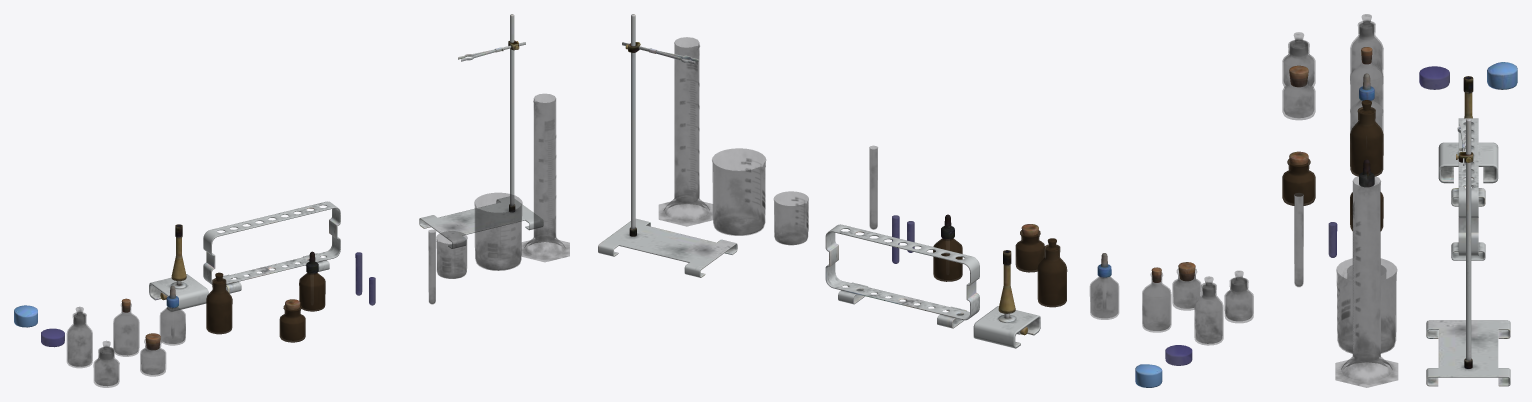
Rendered from set.glb.
The picture shows the model from 3 angles, left to right: view 1: azimuth 30°, elevation 25°; view 2: azimuth 150°, elevation 25°; view 3: azimuth 270°, elevation 25°; orthographic projection. The views are drawn at different scales.
Visible parts, largest first — view 1: chemistry_set_beaker_large, chemistry_set_clamp_stand, chemistry_set_beaker_med, chemistry_set_test_tube_stand_a, chemistry_set_bunsen_burner, chemistry_set_beaker_small, chemistry_set_bottle_dark_c, chemistry_set_bottle_clear_c, chemistry_set_bottle_clear_d, chemistry_set_bottle_dark_e, chemistry_set_bottle_clear_e, chemistry_set_bottle_clear_a (+4 smaller); view 2: chemistry_set_beaker_large, chemistry_set_clamp_stand, chemistry_set_beaker_med, chemistry_set_test_tube_stand_a, chemistry_set_bunsen_burner, chemistry_set_beaker_small, chemistry_set_bottle_dark_c, chemistry_set_bottle_clear_c, chemistry_set_bottle_clear_d, chemistry_set_bottle_clear_e, chemistry_set_bottle_clear_a, chemistry_set_bottle_dark_e (+4 smaller); view 3: chemistry_set_beaker_large, chemistry_set_clamp_stand, chemistry_set_beaker_med, chemistry_set_test_tube_stand_a, chemistry_set_bunsen_burner, chemistry_set_bottle_dark_c, chemistry_set_bottle_clear_b, chemistry_set_bottle_dark_b, chemistry_set_bottle_clear_d, chemistry_set_bottle_clear_c, chemistry_set_test_tube_a, chemistry_set_bottle_clear_a (+11 smaller).
Boxes of the visible parts, left/top/right/bottom form: chemistry_set_beaker_large: left=521, top=94, right=569, bottom=261; chemistry_set_clamp_stand: left=419, top=14, right=543, bottom=248; chemistry_set_beaker_med: left=474, top=193, right=522, bottom=270; chemistry_set_test_tube_stand_a: left=203, top=201, right=340, bottom=293; chemistry_set_bunsen_burner: left=149, top=224, right=208, bottom=311; chemistry_set_beaker_small: left=436, top=231, right=467, bottom=278; chemistry_set_bottle_dark_c: left=206, top=278, right=232, bottom=334; chemistry_set_bottle_clear_c: left=67, top=312, right=92, bottom=367; chemistry_set_bottle_clear_d: left=113, top=303, right=139, bottom=356; chemistry_set_bottle_dark_e: left=299, top=273, right=325, bottom=311; chemistry_set_bottle_clear_e: left=160, top=307, right=185, bottom=345; chemistry_set_bottle_clear_a: left=93, top=347, right=119, bottom=387; chemistry_set_beaker_large: left=659, top=37, right=713, bottom=226; chemistry_set_clamp_stand: left=598, top=14, right=737, bottom=277; chemistry_set_beaker_med: left=712, top=148, right=765, bottom=235; chemistry_set_test_tube_stand_a: left=825, top=224, right=979, bottom=328; chemistry_set_bunsen_burner: left=973, top=250, right=1040, bottom=348; chemistry_set_beaker_small: left=774, top=191, right=808, bottom=245; chemistry_set_bottle_dark_c: left=1037, top=244, right=1067, bottom=307; chemistry_set_bottle_clear_c: left=1194, top=282, right=1223, bottom=345; chemistry_set_bottle_clear_d: left=1142, top=272, right=1171, bottom=332; chemistry_set_bottle_clear_e: left=1090, top=276, right=1118, bottom=319; chemistry_set_bottle_clear_a: left=1224, top=278, right=1253, bottom=322; chemistry_set_bottle_dark_e: left=933, top=238, right=962, bottom=281; chemistry_set_beaker_large: left=1335, top=174, right=1397, bottom=387; chemistry_set_clamp_stand: left=1426, top=118, right=1510, bottom=386; chemistry_set_beaker_med: left=1336, top=258, right=1397, bottom=353; chemistry_set_test_tube_stand_a: left=1451, top=118, right=1485, bottom=260; chemistry_set_bunsen_burner: left=1438, top=76, right=1498, bottom=183; chemistry_set_bottle_dark_c: left=1350, top=107, right=1383, bottom=176; chemistry_set_bottle_clear_b: left=1282, top=73, right=1315, bottom=119; chemistry_set_bottle_dark_b: left=1282, top=159, right=1315, bottom=205; chemistry_set_bottle_clear_d: left=1350, top=52, right=1383, bottom=111; chemistry_set_bottle_clear_c: left=1350, top=21, right=1383, bottom=83; chemistry_set_test_tube_a: left=1294, top=193, right=1303, bottom=286; chemistry_set_bottle_clear_a: left=1282, top=40, right=1315, bottom=87.
Size of the model in its own units: 1.08 by 0.42 by 0.3475.
2 materials, 2 textured.
